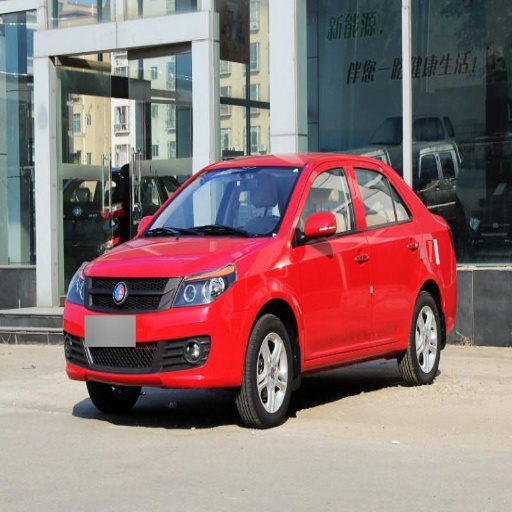front_bumper: (65, 276, 256, 386)
front_glass: (140, 169, 301, 235)
front_left_door: (293, 163, 373, 357)
